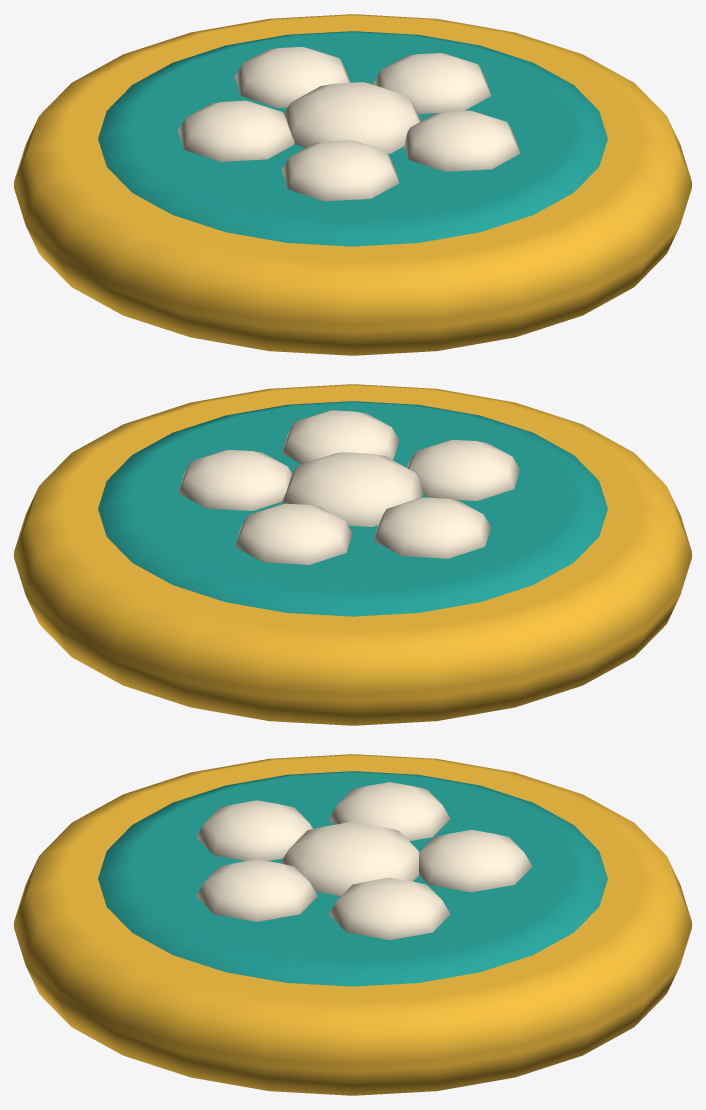
Rendered from lapel_pin.glb.
3 renders of one model, top to bottom at view 1: azimuth 30°, elevation 25°; view 2: azimuth 150°, elevation 25°; view 3: azimuth 270°, elevation 25°, orthographic.
Parts seen in each view (by area): view 1: Rim, Face, StarCore, Star2, Star3, Star1, Star4, Star0; view 2: Rim, Face, StarCore, Star1, Star0, Star4, Star2, Star3; view 3: Rim, Face, StarCore, Star4, Star3, Star0, Star2, Star1.
Boxes of the visible parts, x1,y1,x2,y2 form: Rim: (14, 14, 691, 355); Face: (98, 31, 607, 246); StarCore: (284, 82, 420, 153); Star2: (282, 140, 399, 201); Star3: (404, 110, 520, 171); Star1: (178, 100, 294, 161); Star4: (373, 53, 490, 113); Star0: (234, 46, 350, 107); Rim: (14, 384, 691, 725); Face: (98, 401, 607, 616); StarCore: (281, 452, 422, 526); Star1: (373, 497, 491, 558); Star0: (235, 503, 352, 564); Star4: (178, 449, 292, 510); Star2: (407, 440, 520, 500); Star3: (281, 410, 399, 464); Rim: (14, 754, 691, 1095); Face: (98, 771, 607, 986); StarCore: (280, 821, 419, 895); Star4: (328, 877, 450, 939); Star3: (196, 859, 317, 921); Star0: (419, 829, 532, 892); Star2: (196, 800, 312, 860); Star1: (329, 782, 450, 841).
Size of the model in its own units: 0.2 by 0.045 by 0.2.
